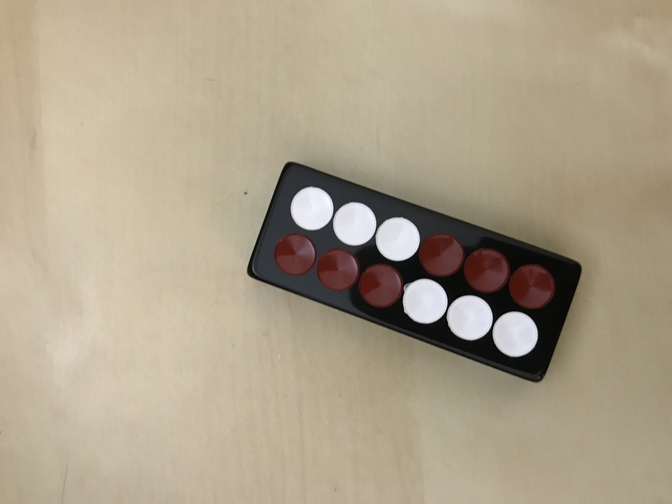heaven: (246, 159, 583, 383)
